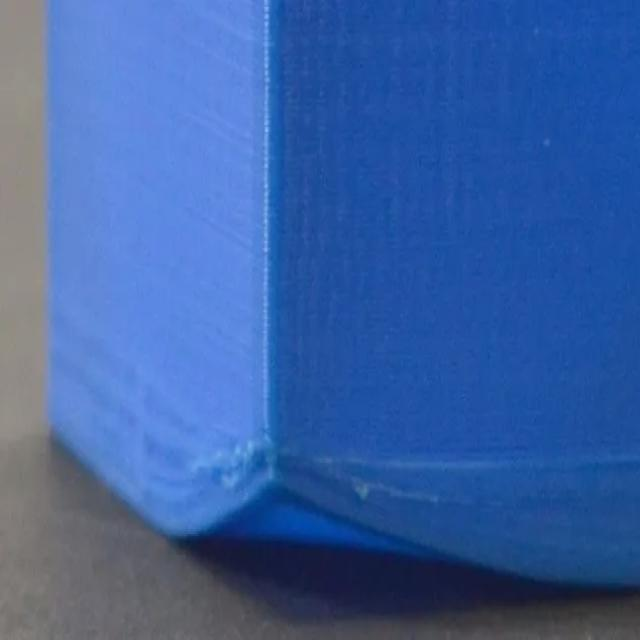Warping: (122, 420, 512, 622)
